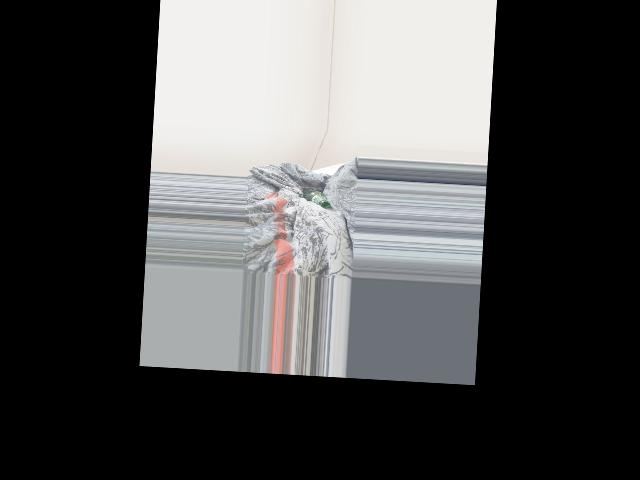beer: (301, 188, 331, 208)
